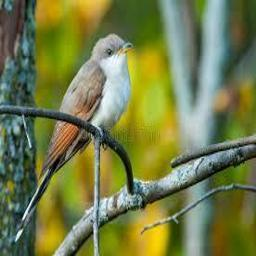Cuckoo: (14, 33, 133, 242)
